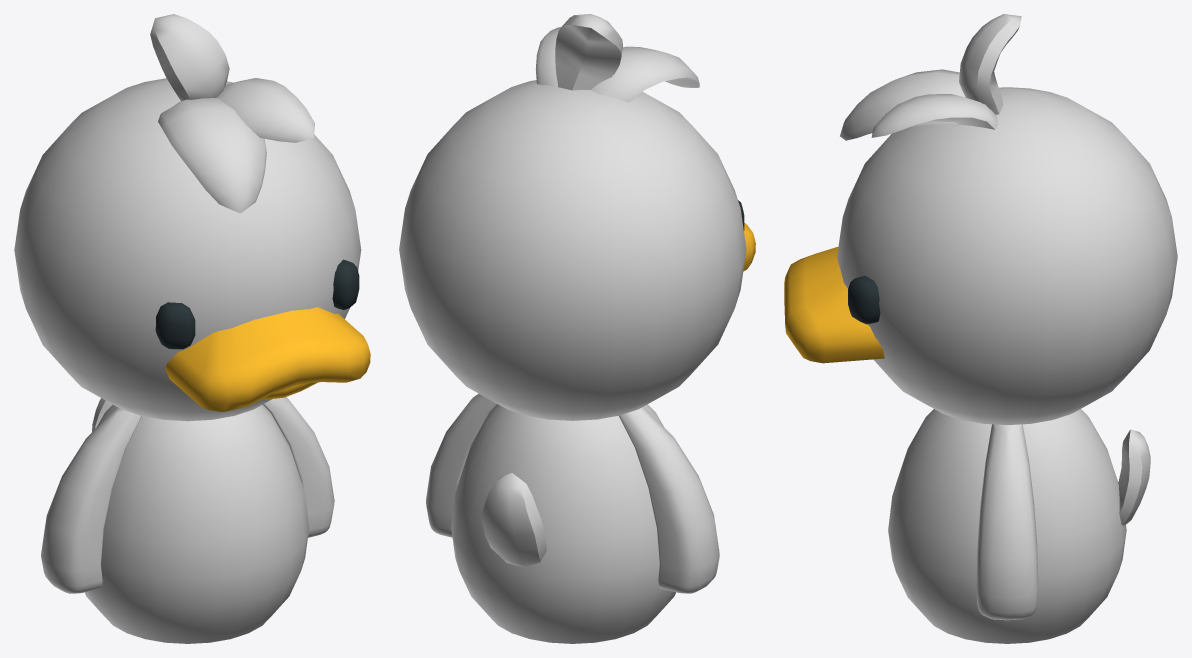
The picture shows the model from 3 angles, left to right: view 1: azimuth 30°, elevation 25°; view 2: azimuth 150°, elevation 25°; view 3: azimuth 270°, elevation 25°; orthographic projection.
Parts seen in each view (by area): view 1: character_duckHead, character_duck, character_duckArmRight, character_duckArmLeft; view 2: character_duckHead, character_duck, character_duckArmRight, character_duckArmLeft; view 3: character_duckHead, character_duck, character_duckArmLeft.
Boxes of the visible parts, x1,y1,x2,y2 form: character_duckHead: [14, 14, 370, 421]; character_duck: [84, 398, 309, 643]; character_duckArmRight: [41, 407, 141, 593]; character_duckArmLeft: [263, 397, 334, 537]; character_duckHead: [399, 14, 755, 420]; character_duck: [451, 404, 675, 643]; character_duckArmRight: [619, 406, 719, 593]; character_duckArmLeft: [426, 393, 497, 537]; character_duckHead: [784, 14, 1177, 424]; character_duck: [888, 409, 1150, 643]; character_duckArmLeft: [976, 424, 1038, 620].
Bounding box in the file's own units: 1 × 1.89 × 1.15.
